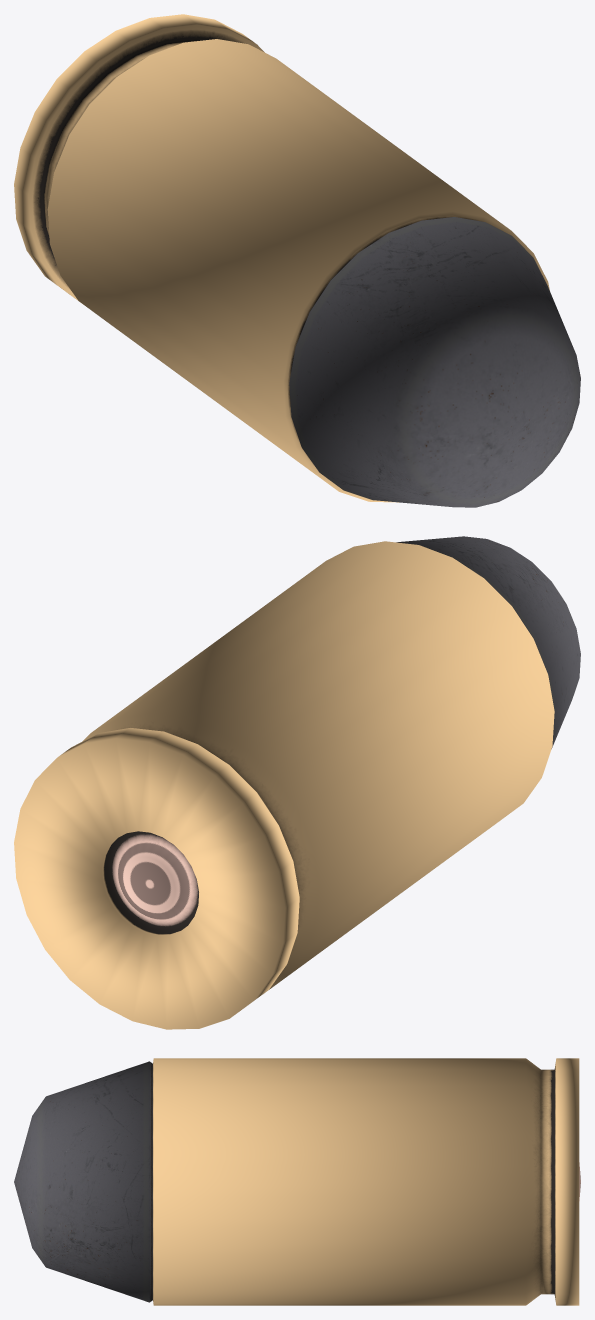
File: bala.obj
3 renders of one model, top to bottom at view 1: azimuth 30°, elevation 25°; view 2: azimuth 150°, elevation 25°; view 3: azimuth 270°, elevation 25°, orthographic. The views are drawn at different scales.
Parts seen in each view (by area): view 1: Bullet_low; view 2: Bullet_low; view 3: Bullet_low.
Boxes of the visible parts, <box> form: Bullet_low: <box>14,14,580,507</box>; Bullet_low: <box>14,536,580,1029</box>; Bullet_low: <box>14,1058,580,1305</box>.
Bounding box in the file's own units: 1.28 × 1.28 × 2.93.
1 material, 1 textured.
